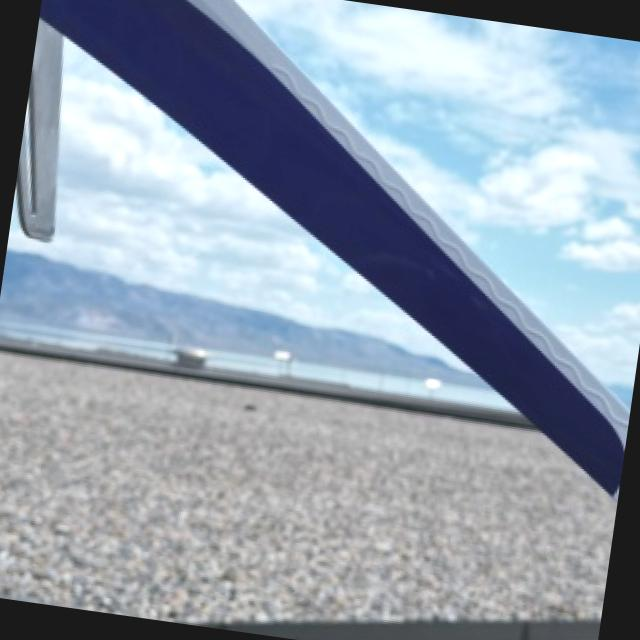healthy: (42, 0, 631, 489), (0, 350, 617, 620)
